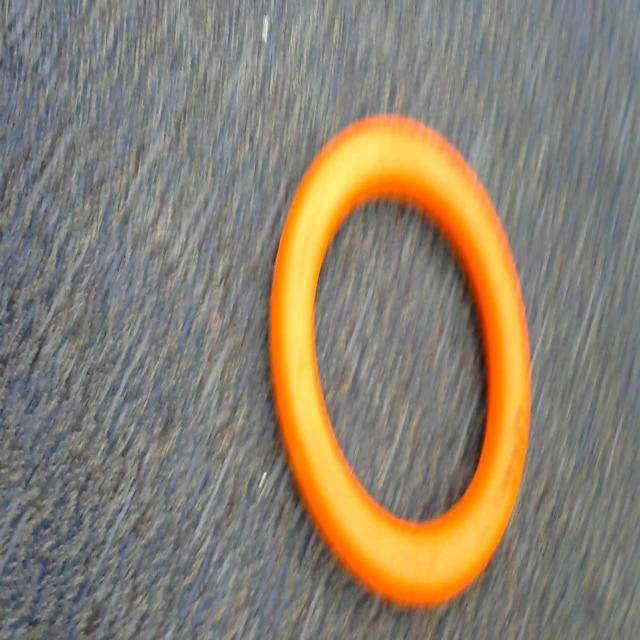note: (250, 102, 541, 629)
